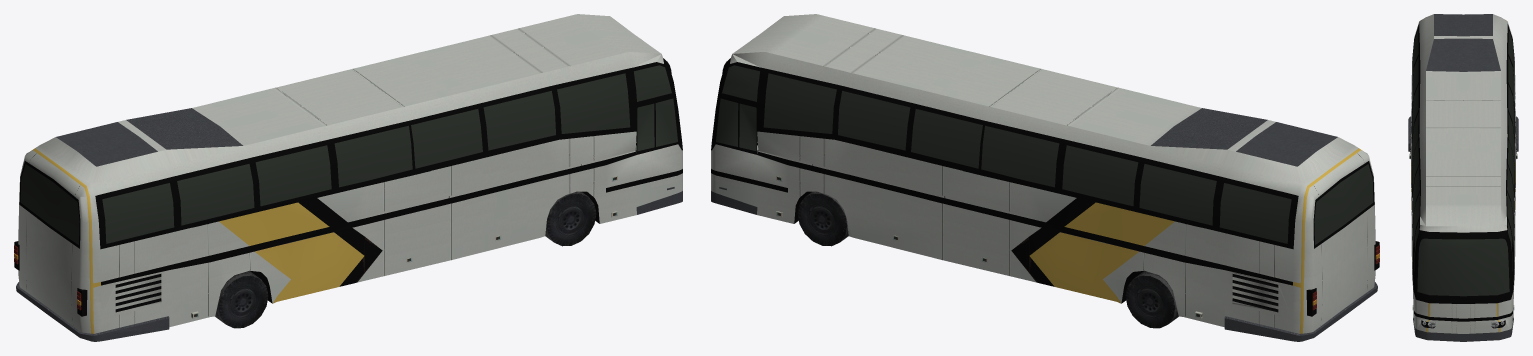
3 views of the same model, side by side, from view 1: azimuth 30°, elevation 25°; view 2: azimuth 150°, elevation 25°; view 3: azimuth 270°, elevation 25° (orthographic). The views are drawn at different scales.
Visible parts, largest first — view 1: 19BUS; view 2: 19BUS; view 3: 19BUS.
Part boxes in pixels (x1,y1,x2,y2): 19BUS: (14, 14, 682, 341); 19BUS: (711, 14, 1379, 341); 19BUS: (1408, 14, 1518, 341).
Size of the model in its own units: 66.31 by 18.81 by 14.31.
Materials: 1 (1 with a texture image).
